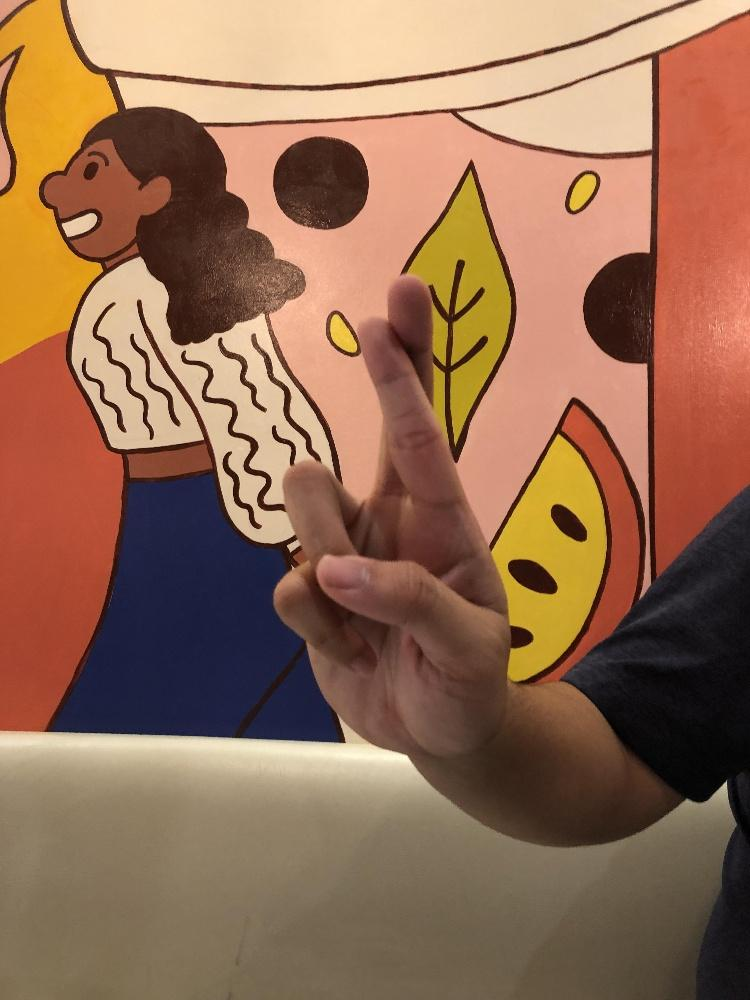r: (269, 275, 513, 758)
